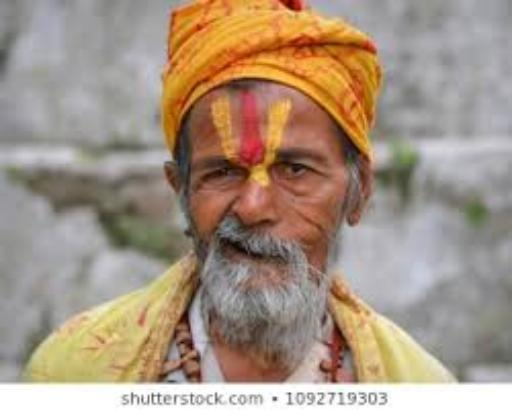left_eye: (270, 163, 326, 178)
right_eye: (201, 169, 245, 181)
